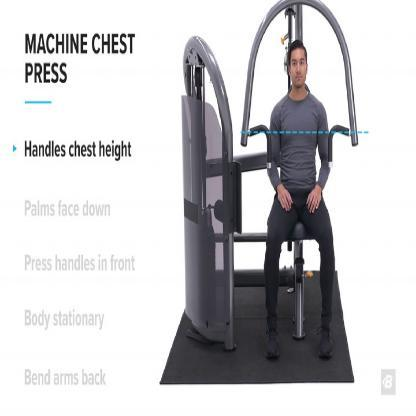Chest Press machine: (178, 0, 362, 371)
